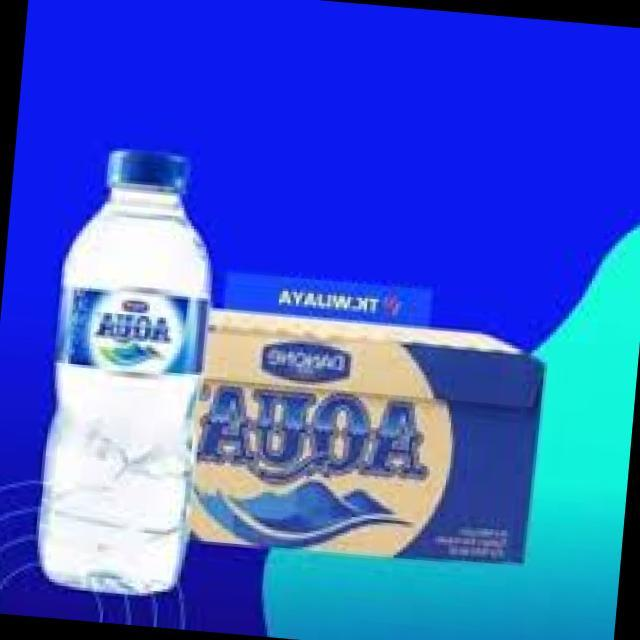good: (1, 107, 253, 627)
